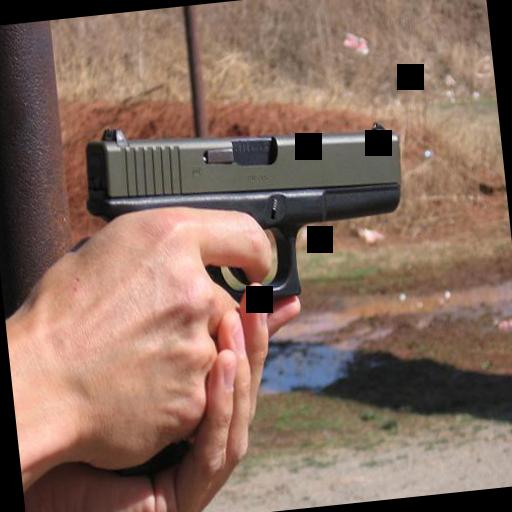Handgun: (64, 94, 432, 480)
